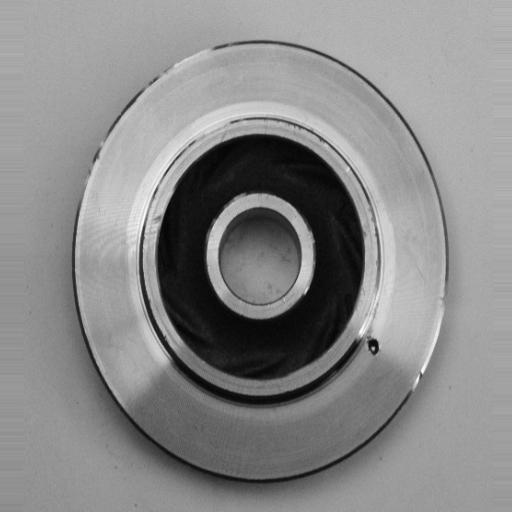pit: (357, 329, 387, 362)
scratch: (404, 286, 453, 397), (148, 39, 222, 90), (77, 140, 118, 213), (180, 111, 249, 154), (352, 285, 387, 340)
unpolished_casting: (70, 40, 458, 487)
